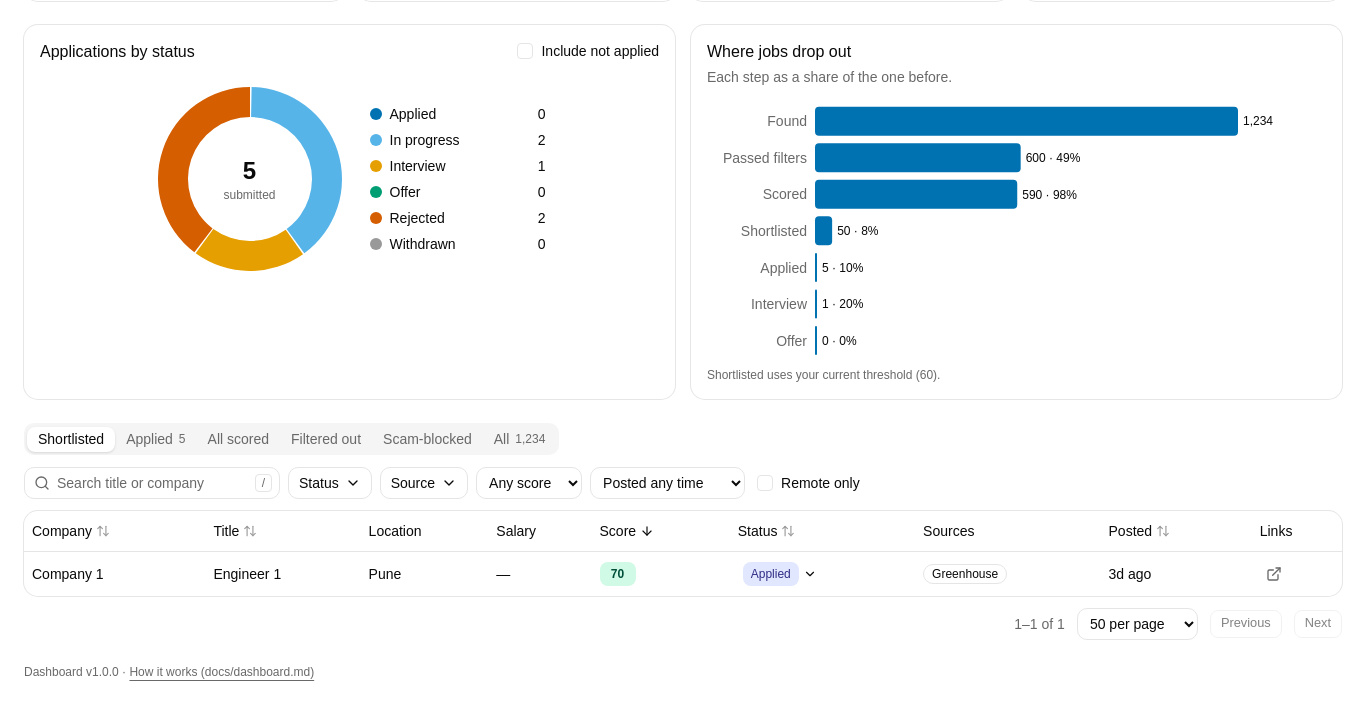
Test case: what the Undo is tied to › is not offered when the move wrote nothing (the same status again): there is no entry to take back
The image size is (1366, 704).
(page scrolled)
Click the button with aria-label "Status: Applied. Change status" at (780, 574), box [738, 560, 822, 588]
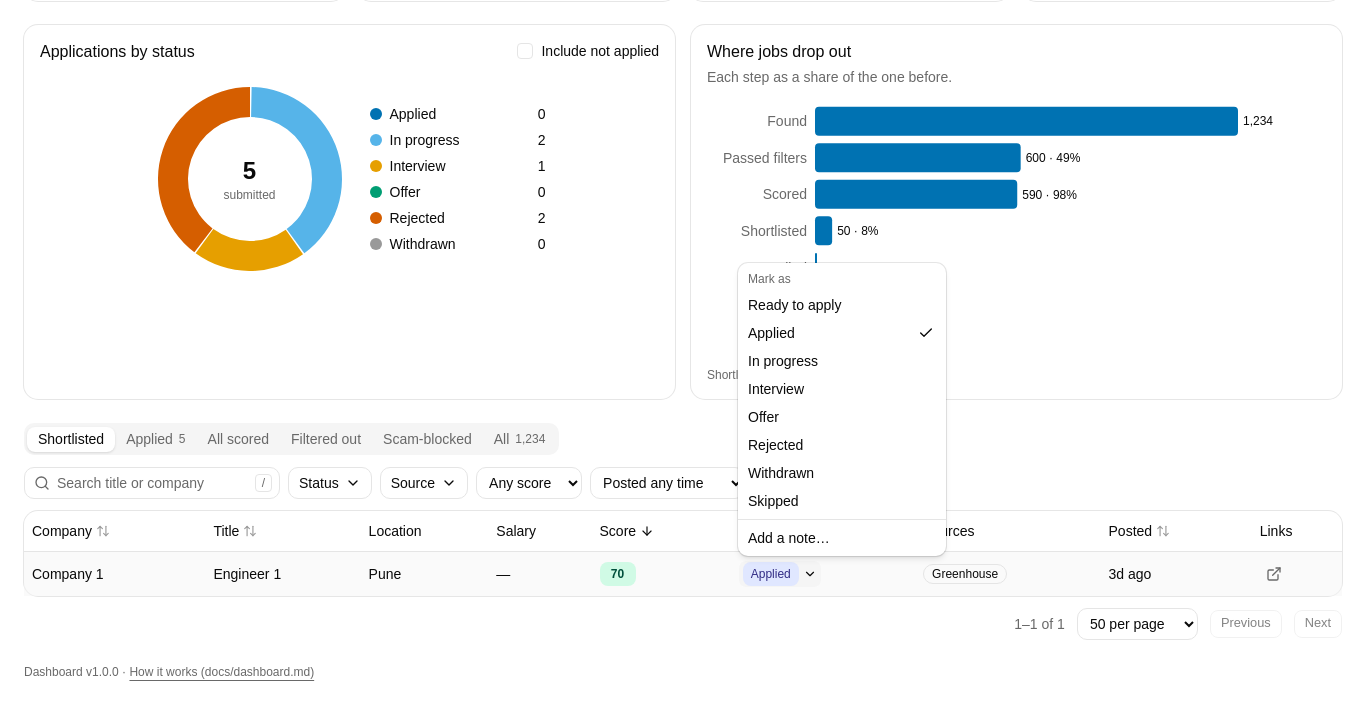
Click the menu item "Add a note…" at (789, 538), box [748, 530, 830, 546]
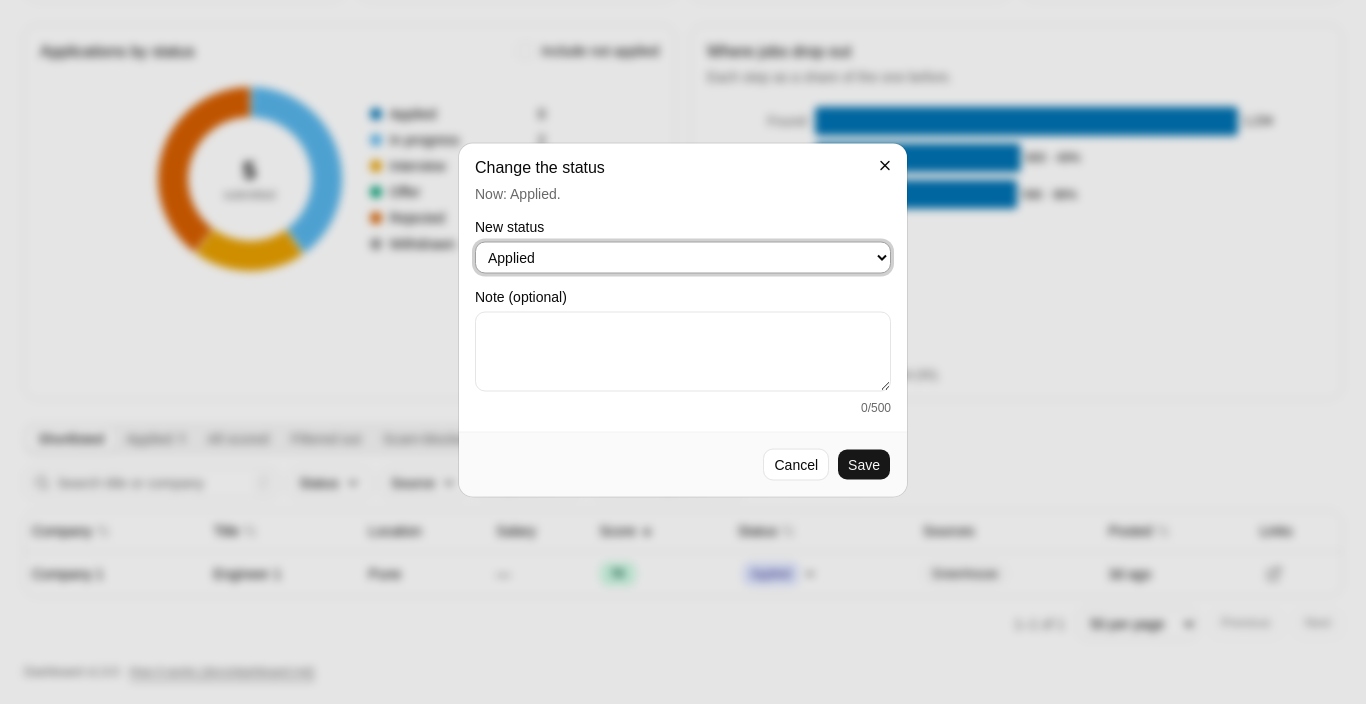
Click the button "Save" at (864, 464), box [837, 448, 891, 480]
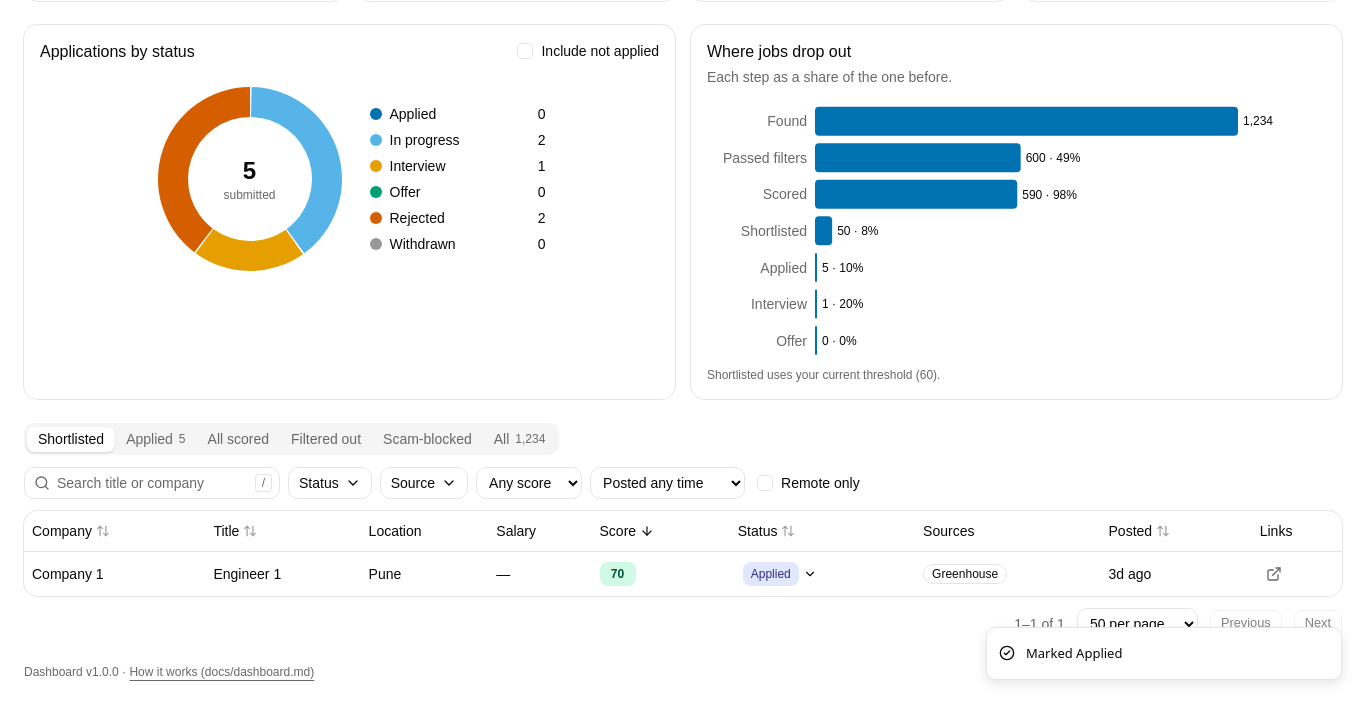
expect the text "Marked Applied" is shown: met, box [1026, 644, 1122, 663]
